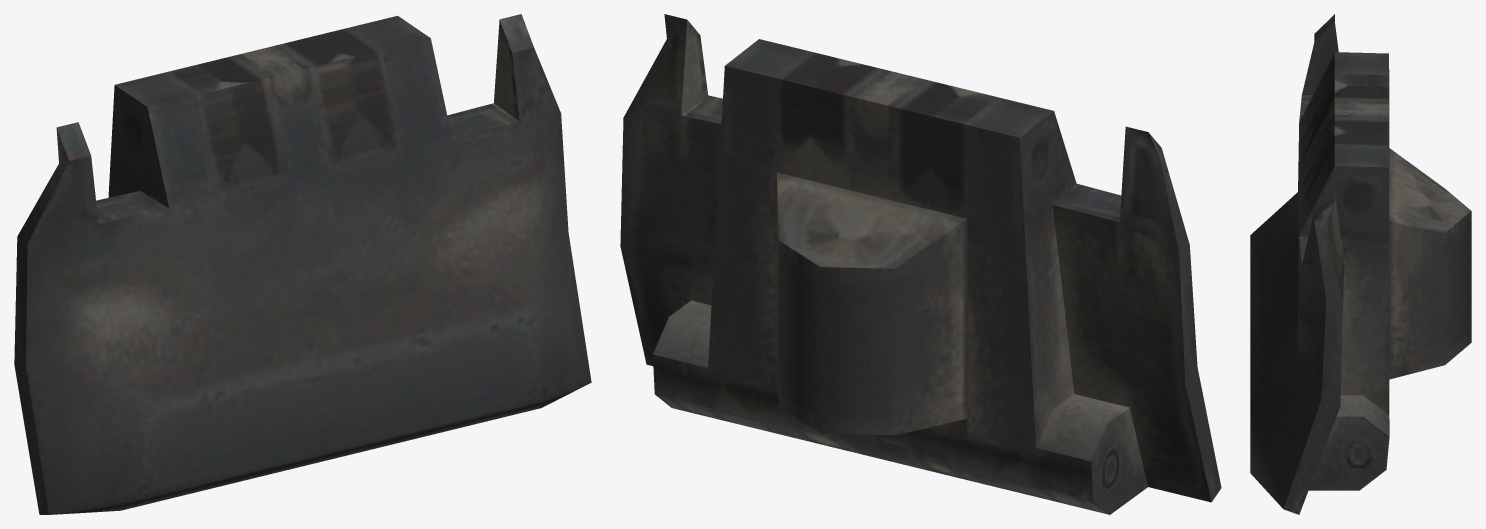
3 views of the same model, side by side, from view 1: azimuth 30°, elevation 25°; view 2: azimuth 150°, elevation 25°; view 3: azimuth 270°, elevation 25° (orthographic). The views are drawn at different scales.
Parts seen in each view (by area): view 1: set_0_group_0; view 2: set_0_group_0; view 3: set_0_group_0.
Boxes of the visible parts, box(x1,y1,x2,y2) form: set_0_group_0: box(14, 14, 591, 514); set_0_group_0: box(620, 14, 1221, 514); set_0_group_0: box(1250, 14, 1471, 514).
Bounding box in the file's own units: 0.3809 × 0.2429 × 0.1631.
Materials: 1 (1 with a texture image).
